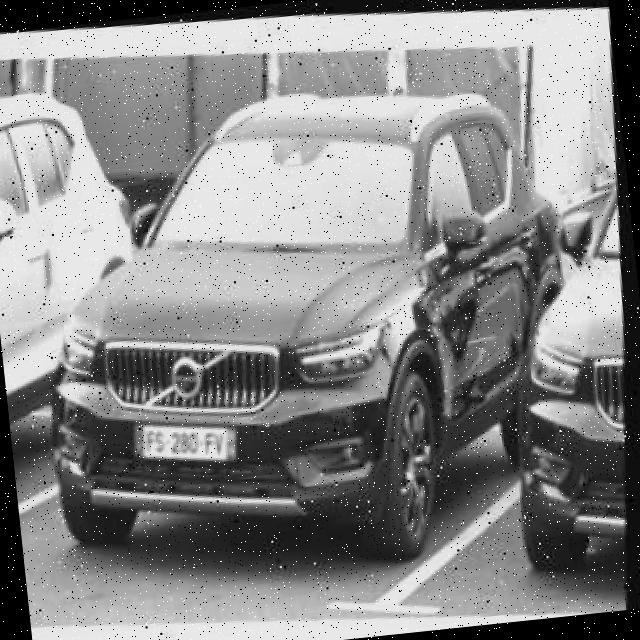EU: (128, 421, 240, 459)
France: (128, 422, 144, 458)
